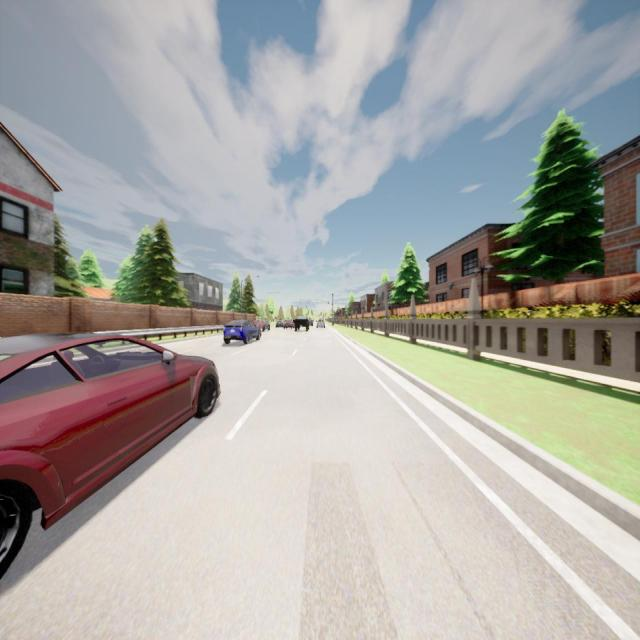Vehicle: (0, 337, 220, 578), (222, 319, 262, 346), (293, 314, 310, 332), (254, 318, 271, 332), (283, 318, 293, 330), (317, 318, 325, 329), (275, 321, 283, 328)
